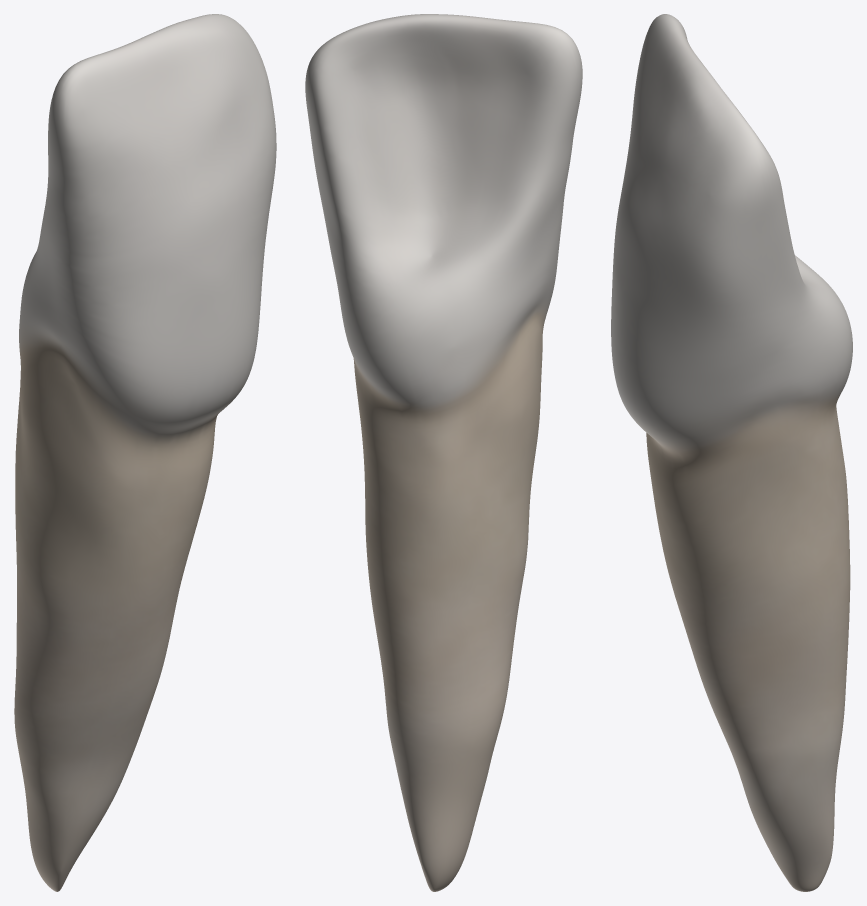
3 renders of one model, left to right at view 1: azimuth 30°, elevation 25°; view 2: azimuth 150°, elevation 25°; view 3: azimuth 270°, elevation 25°, orthographic. The views are drawn at different scales.
Parts seen in each view (by area): view 1: diente-72; view 2: diente-72; view 3: diente-72.
Part boxes in pixels (x1,y1,x2,y2): diente-72: (14,14,276,891); diente-72: (305,14,582,891); diente-72: (611,14,852,891).
Bounding box in the file's own units: 0.00441 × 0.015 × 0.00385.
